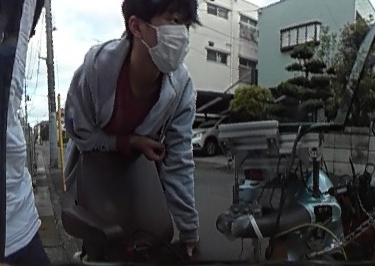person: (60, 0, 199, 266)
